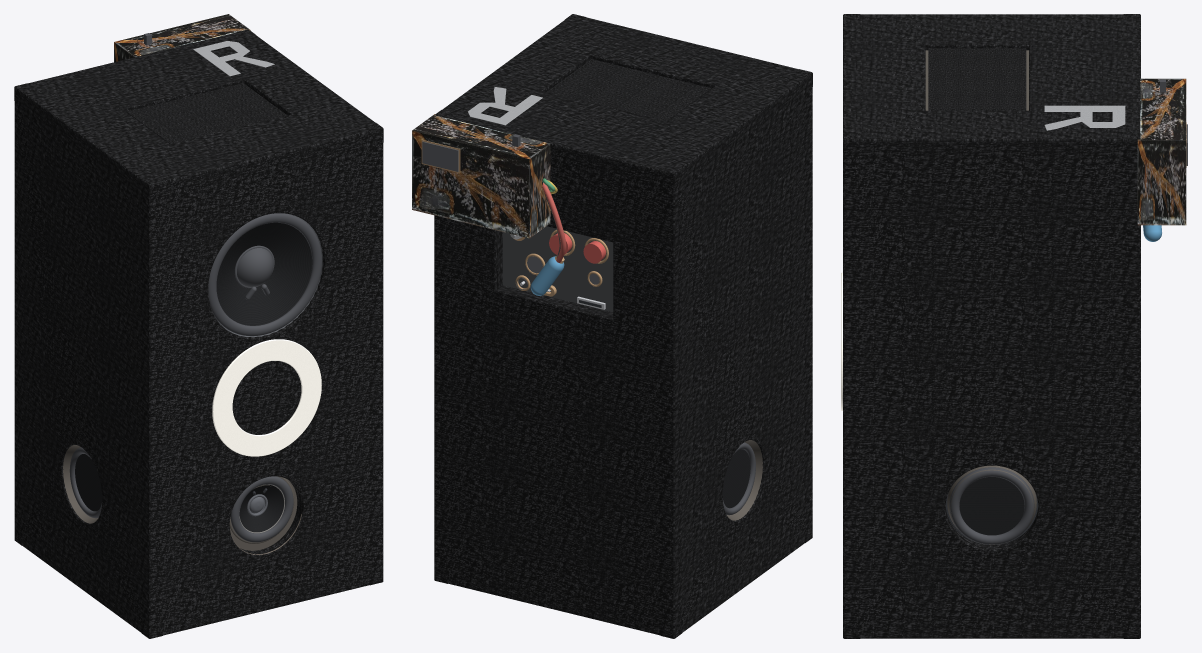
The model's file is speaker_photorealistic.glb.
3 renders of one model, left to right at view 1: azimuth 30°, elevation 25°; view 2: azimuth 150°, elevation 25°; view 3: azimuth 270°, elevation 25°, orthographic. The views are drawn at different scales.
Parts seen in each view (by area): view 1: Enclosure_Front_Baffle, Enclosure_Right_Wall, Enclosure_Top_Wall, Front_Upper_Driver_Cone, Front_Center_LED_Ring, Top_Recessed_Panel_Lid, Front_Upper_Driver_Surround, Back_Raised_Electronics_Module, Front_Lower_Driver_Surround, Front_Lower_Driver_Cone, Right_Bass_Port_Diaphragm, Front_Upper_Driver_DustCap (+4 smaller); view 2: Enclosure_Back_Wall, Enclosure_Right_Wall, Enclosure_Top_Wall, Back_Raised_Electronics_Module, Top_Recessed_Panel_Lid, Back_Recessed_Panel_Plate, Right_Bass_Port_Diaphragm, Top_Silver_R_Marking, Back_Module_Window_Patch, Right_Bass_Port_Tube_Wall, Back_Blue_Capsule_Sleeve, Right_Bass_Port_Inner_Ring; view 3: Enclosure_Left_Wall, Enclosure_Top_Wall, Back_Raised_Electronics_Module, Top_Recessed_Panel_Lid, Left_Bass_Port_Diaphragm, Left_Bass_Port_Surround_Ring, Top_Silver_R_Marking, Enclosure_Front_Baffle, Left_Bass_Port_Recess_Collar, Enclosure_Back_Wall.
Boxes of the visible parts, x1=… form: Enclosure_Front_Baffle: x1=141, y1=123, x2=383, y2=638; Enclosure_Right_Wall: x1=14, y1=83, x2=162, y2=638; Enclosure_Top_Wall: x1=14, y1=29, x2=383, y2=199; Front_Upper_Driver_Cone: x1=216, y1=222, x2=312, y2=325; Front_Center_LED_Ring: x1=212, y1=339, x2=321, y2=456; Top_Recessed_Panel_Lid: x1=127, y1=83, x2=287, y2=143; Front_Upper_Driver_Surround: x1=208, y1=213, x2=322, y2=336; Back_Raised_Electronics_Module: x1=114, y1=14, x2=250, y2=62; Front_Lower_Driver_Surround: x1=230, y1=476, x2=293, y2=542; Front_Lower_Driver_Cone: x1=239, y1=484, x2=283, y2=532; Right_Bass_Port_Diaphragm: x1=75, y1=454, x2=102, y2=511; Front_Upper_Driver_DustCap: x1=237, y1=248, x2=273, y2=286; Enclosure_Back_Wall: x1=434, y1=110, x2=681, y2=638; Enclosure_Right_Wall: x1=660, y1=69, x2=812, y2=638; Enclosure_Top_Wall: x1=435, y1=14, x2=812, y2=188; Back_Raised_Electronics_Module: x1=412, y1=114, x2=550, y2=238; Top_Recessed_Panel_Lid: x1=547, y1=59, x2=711, y2=121; Back_Recessed_Panel_Plate: x1=502, y1=226, x2=613, y2=312; Right_Bass_Port_Diaphragm: x1=722, y1=449, x2=750, y2=508; Top_Silver_R_Marking: x1=467, y1=87, x2=542, y2=125; Back_Module_Window_Patch: x1=422, y1=141, x2=458, y2=171; Right_Bass_Port_Tube_Wall: x1=727, y1=440, x2=762, y2=520; Back_Blue_Capsule_Sleeve: x1=530, y1=256, x2=564, y2=295; Right_Bass_Port_Inner_Ring: x1=722, y1=442, x2=755, y2=515; Enclosure_Left_Wall: x1=843, y1=132, x2=1140, y2=638; Enclosure_Top_Wall: x1=843, y1=14, x2=1140, y2=155; Back_Raised_Electronics_Module: x1=1137, y1=78, x2=1186, y2=225; Top_Recessed_Panel_Lid: x1=928, y1=48, x2=1026, y2=110; Left_Bass_Port_Diaphragm: x1=959, y1=477, x2=1024, y2=535; Left_Bass_Port_Surround_Ring: x1=949, y1=467, x2=1034, y2=544; Top_Silver_R_Marking: x1=1044, y1=105, x2=1125, y2=130; Enclosure_Front_Baffle: x1=843, y1=14, x2=860, y2=638; Left_Bass_Port_Recess_Collar: x1=947, y1=465, x2=1036, y2=544; Enclosure_Back_Wall: x1=1123, y1=14, x2=1140, y2=638.
Bounding box in the file's own units: 1.42 × 2.66 × 1.64.
Materials: 24 (5 with a texture image).
